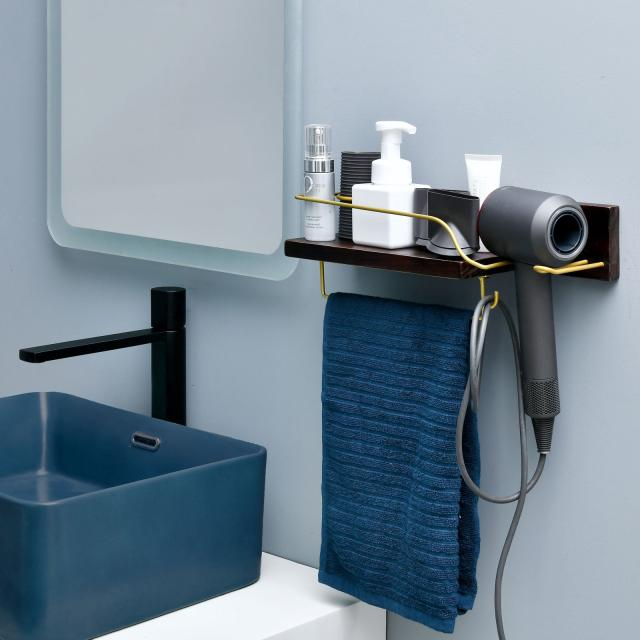dryer: (449, 151, 625, 610), (470, 177, 604, 474)
